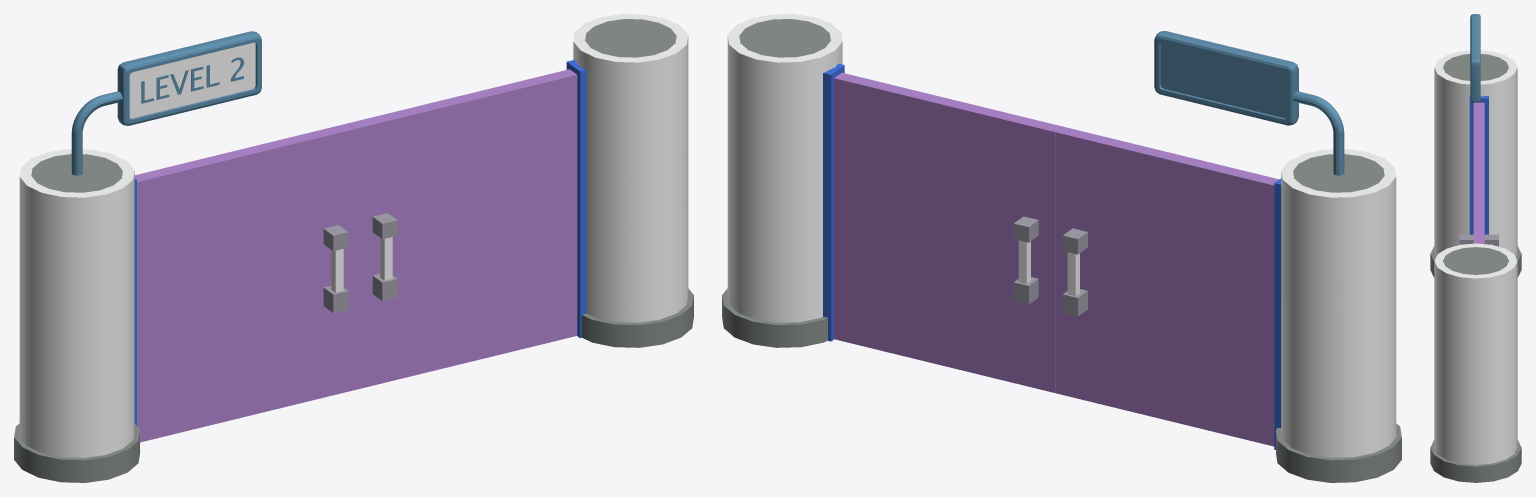
File: Door_With_lvl2_Poster.fbx
The picture shows the model from 3 angles, left to right: view 1: azimuth 30°, elevation 25°; view 2: azimuth 150°, elevation 25°; view 3: azimuth 270°, elevation 25°; orthographic projection. The views are drawn at different scales.
Visible parts, largest first — view 1: Part_01_2, Part_01_1, polySurface11, polySurface3, Poster; view 2: Part_01_2, Part_01_1, polySurface11, polySurface3, Poster; view 3: polySurface3, polySurface11, Part_01_1, Poster, Part_01_2.
Boxes of the visible parts, x1,y1,x2,y2 form: Part_01_2: [348, 60, 586, 389]; Part_01_1: [134, 123, 355, 442]; polySurface11: [14, 149, 139, 482]; polySurface3: [573, 14, 693, 347]; Poster: [71, 31, 261, 175]; Part_01_2: [823, 63, 1062, 393]; Part_01_1: [1056, 126, 1281, 449]; polySurface11: [1276, 149, 1401, 482]; polySurface3: [722, 14, 842, 347]; Poster: [1154, 31, 1344, 175]; polySurface3: [1430, 243, 1521, 482]; polySurface11: [1430, 50, 1521, 277]; Part_01_1: [1459, 96, 1498, 246]; Poster: [1470, 14, 1480, 102]; Part_01_2: [1473, 180, 1484, 243].
Size of the model in its own units: 584 by 320 by 96.81.
Materials: 2 (2 with a texture image).
